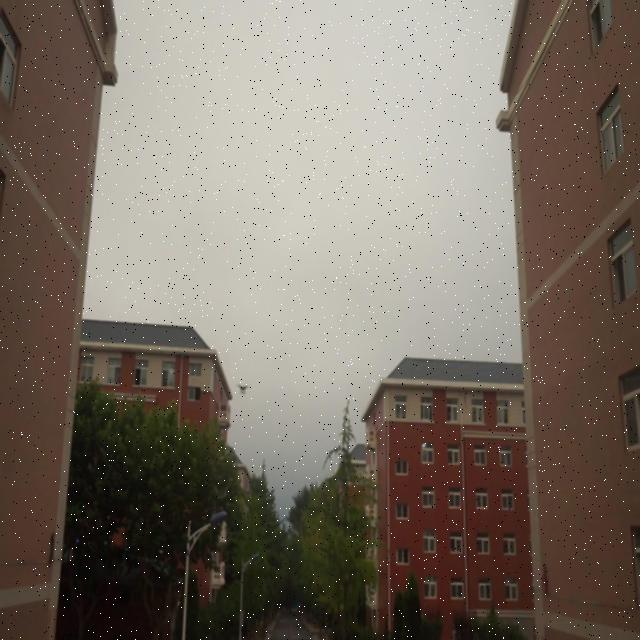UAV: (236, 384, 250, 395)
